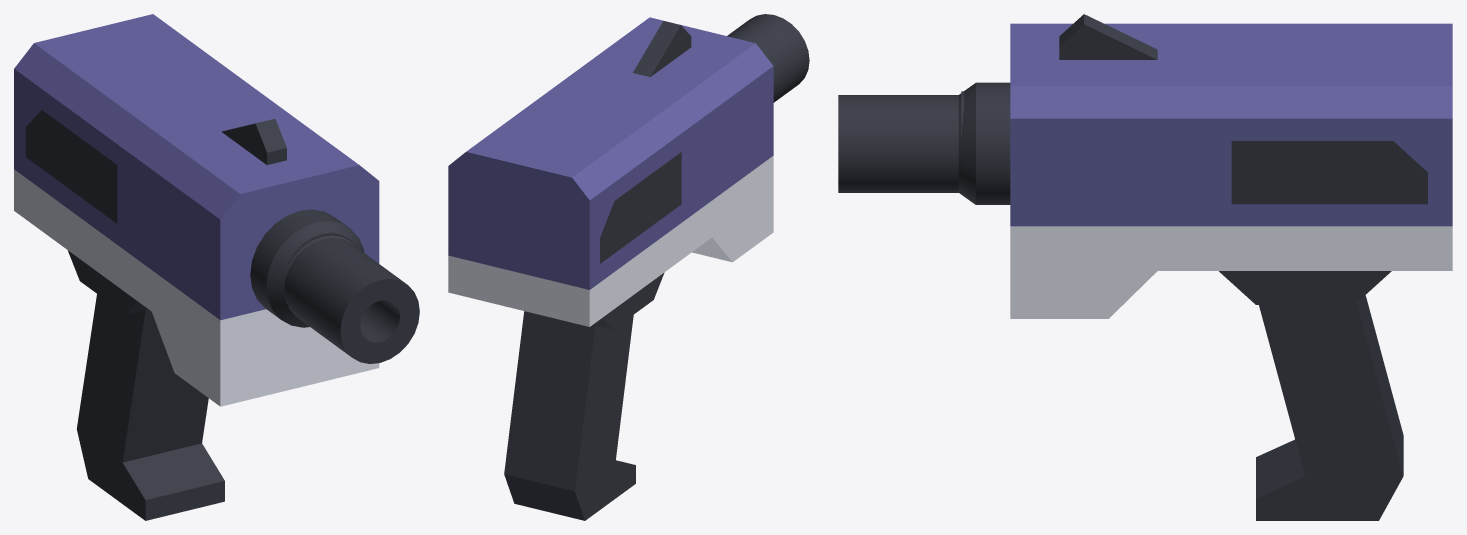
The model's file is Debug-Gun-2.obj.
3 renders of one model, left to right at view 1: azimuth 30°, elevation 25°; view 2: azimuth 150°, elevation 25°; view 3: azimuth 270°, elevation 25°, orthographic. The views are drawn at different scales.
Visible parts, largest first — view 1: mergedBlocks; view 2: mergedBlocks; view 3: mergedBlocks.
Boxes of the visible parts, x1=… form: mergedBlocks: x1=14, y1=14, x2=419, y2=520; mergedBlocks: x1=448, y1=14, x2=809, y2=520; mergedBlocks: x1=838, y1=14, x2=1452, y2=520.
Bounding box in the file's own units: 0.4 × 1.08 × 1.25.
